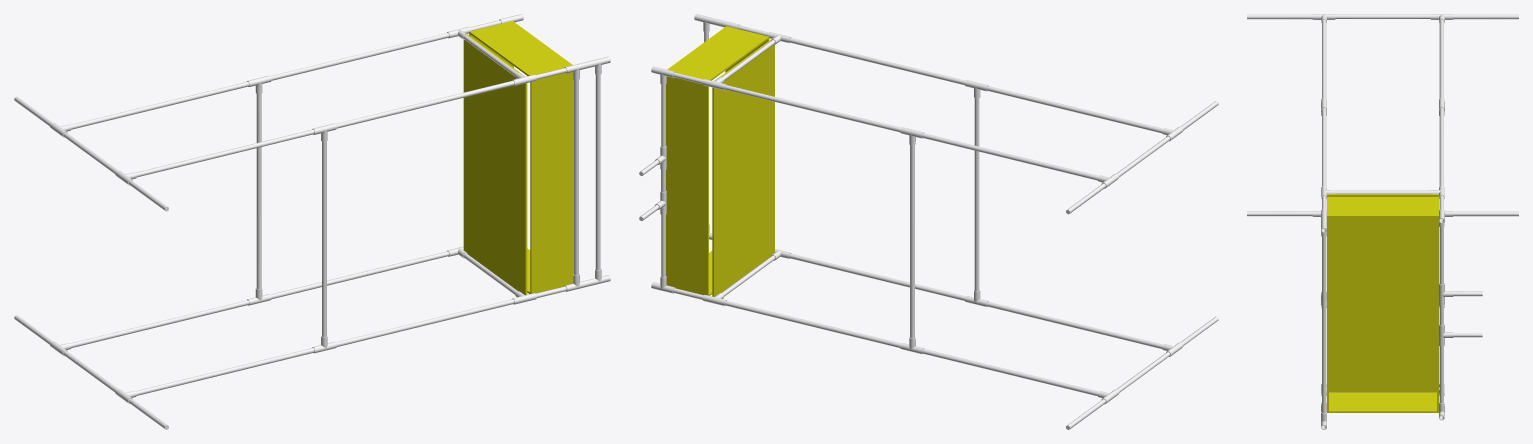
The model's file is Expose_to_sunligh_box.obj.
3 renders of one model, left to right at view 1: azimuth 30°, elevation 25°; view 2: azimuth 150°, elevation 25°; view 3: azimuth 270°, elevation 25°, orthographic. The views are drawn at different scales.
Parts seen in each view (by area): view 1: Bryła52, Bryła53, Bryła56, Bryła51, Bryła11, Bryła6, Bryła14, Bryła21, Bryła23, Bryła7, Bryła15, Bryła22 (+3 smaller); view 2: Bryła52, Bryła54, Bryła56, Bryła10, Bryła15, Bryła22, Bryła24, Bryła7, Bryła14, Bryła21, Bryła6, Bryła23 (+1 smaller); view 3: Bryła52, Bryła55, Bryła56, Bryła51, Bryła18, Bryła30, Bryła53, Bryła54, Bryła2, Bryła5, Bryła19, Bryła20 (+6 smaller).
Boxes of the visible parts, bbox=[...] form: Bryła52: bbox=[463, 32, 527, 295]; Bryła53: bbox=[530, 72, 573, 293]; Bryła56: bbox=[470, 22, 572, 75]; Bryła51: bbox=[595, 74, 600, 270]; Bryła11: bbox=[256, 93, 261, 289]; Bryła6: bbox=[135, 348, 314, 395]; Bryła14: bbox=[70, 81, 249, 129]; Bryła21: bbox=[336, 80, 514, 128]; Bryła23: bbox=[335, 299, 514, 346]; Bryła7: bbox=[70, 300, 249, 347]; Bryła15: bbox=[135, 129, 314, 177]; Bryła22: bbox=[270, 33, 449, 80]; Bryła52: bbox=[712, 38, 774, 296]; Bryła54: bbox=[666, 73, 708, 295]; Bryła56: bbox=[667, 27, 768, 80]; Bryła10: bbox=[974, 98, 979, 291]; Bryła15: bbox=[986, 86, 1162, 133]; Bryła22: bbox=[724, 85, 901, 132]; Bryła24: bbox=[724, 300, 901, 347]; Bryła7: bbox=[922, 349, 1098, 396]; Bryła14: bbox=[922, 133, 1098, 180]; Bryła21: bbox=[789, 38, 965, 85]; Bryła6: bbox=[986, 301, 1163, 348]; Bryła23: bbox=[789, 253, 965, 300]; Bryła52: bbox=[1327, 194, 1438, 391]; Bryła55: bbox=[1329, 392, 1436, 412]; Bryła56: bbox=[1329, 197, 1436, 217]; Bryła51: bbox=[1322, 237, 1326, 413]; Bryła18: bbox=[1335, 14, 1430, 18]; Bryła30: bbox=[1335, 190, 1430, 194]; Bryła53: bbox=[1327, 197, 1328, 412]; Bryła54: bbox=[1437, 197, 1438, 412]; Bryła2: bbox=[1247, 211, 1312, 216]; Bryła5: bbox=[1453, 211, 1518, 216]; Bryła19: bbox=[1453, 14, 1518, 19]; Bryła20: bbox=[1247, 14, 1312, 19].
Bounding box in the file's own units: 1424 × 626 × 762.
